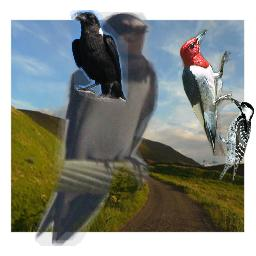Crow: (70, 10, 128, 102)
Swallow: (35, 12, 159, 246)
Woodpecker: (179, 29, 233, 156), (217, 97, 254, 181)
